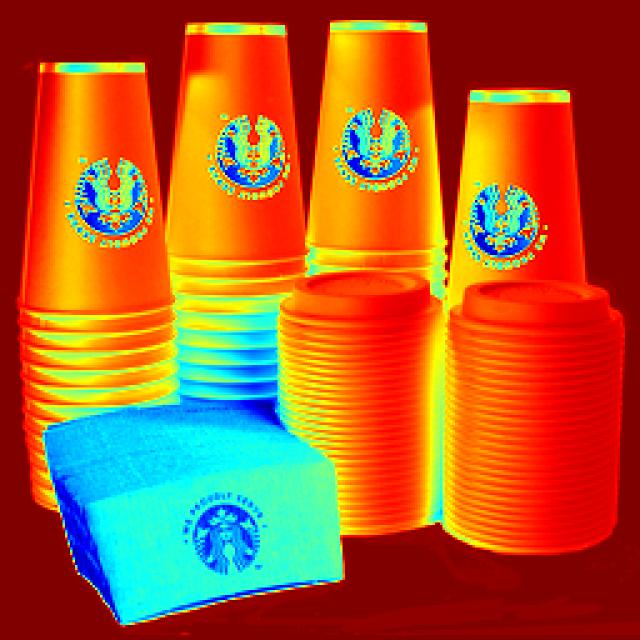Paper Cups: (18, 9, 632, 620)
